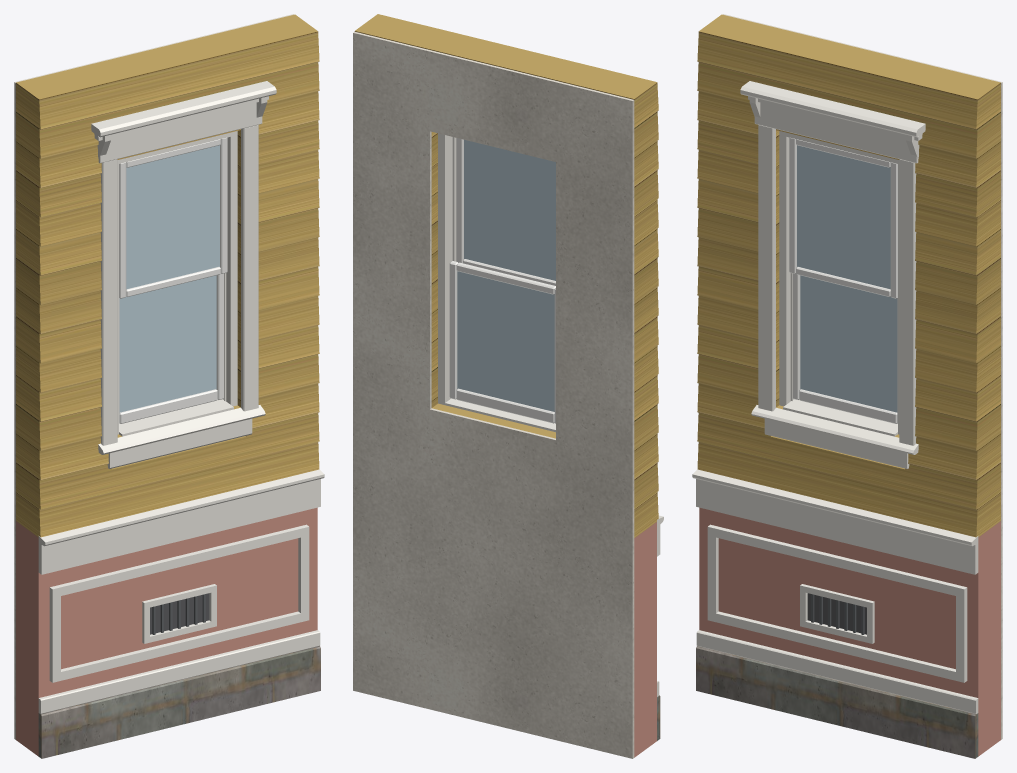
File: b_g_win_a.glb
The picture shows the model from 3 angles, left to right: view 1: azimuth 30°, elevation 25°; view 2: azimuth 150°, elevation 25°; view 3: azimuth 330°, elevation 25°; orthographic projection.
Visible parts, largest first — view 1: b_g_win_a_siding_a, b_g_win_a_trim, b_g_win_a_acc_a, b_g_win_a_glass, b_g_win_a_plinth, b_g_win_a_sash, b_g_win_a_frame, b_g_win_a_plaster, b_g_win_a_dark, b_g_win_a_iron; view 2: b_g_win_a_plaster, b_g_win_a_glass, b_g_win_a_siding_a, b_g_win_a_sash, b_g_win_a_acc_a, b_g_win_a_frame, b_g_win_a_trim; view 3: b_g_win_a_siding_a, b_g_win_a_trim, b_g_win_a_acc_a, b_g_win_a_glass, b_g_win_a_plinth, b_g_win_a_sash, b_g_win_a_frame, b_g_win_a_plaster, b_g_win_a_dark, b_g_win_a_iron.
Boxes of the visible parts, left/top/right/bottom form: b_g_win_a_siding_a: left=16, top=14, right=319, bottom=537; b_g_win_a_trim: left=38, top=81, right=324, bottom=713; b_g_win_a_acc_a: left=16, top=507, right=317, bottom=756; b_g_win_a_glass: left=119, top=145, right=219, bottom=412; b_g_win_a_plinth: left=38, top=646, right=320, bottom=758; b_g_win_a_sash: left=119, top=137, right=227, bottom=423; b_g_win_a_frame: left=117, top=131, right=237, bottom=434; b_g_win_a_plaster: left=14, top=14, right=293, bottom=739; b_g_win_a_dark: left=150, top=593, right=209, bottom=634; b_g_win_a_iron: left=152, top=594, right=205, bottom=634; b_g_win_a_plaster: left=353, top=31, right=634, bottom=758; b_g_win_a_glass: left=457, top=139, right=555, bottom=411; b_g_win_a_siding_a: left=354, top=14, right=658, bottom=537; b_g_win_a_sash: left=449, top=138, right=555, bottom=423; b_g_win_a_acc_a: left=634, top=522, right=656, bottom=757; b_g_win_a_frame: left=438, top=133, right=456, bottom=404; b_g_win_a_trim: left=445, top=398, right=663, bottom=696; b_g_win_a_siding_a: left=697, top=14, right=1000, bottom=537; b_g_win_a_trim: left=692, top=81, right=978, bottom=713; b_g_win_a_acc_a: left=699, top=507, right=1000, bottom=756; b_g_win_a_glass: left=797, top=145, right=897, bottom=412; b_g_win_a_plinth: left=696, top=646, right=978, bottom=758; b_g_win_a_sash: left=789, top=137, right=897, bottom=423; b_g_win_a_frame: left=779, top=131, right=899, bottom=434; b_g_win_a_plaster: left=723, top=14, right=1002, bottom=739; b_g_win_a_dark: left=807, top=593, right=866, bottom=634; b_g_win_a_iron: left=811, top=594, right=864, bottom=634.
Bounding box in the file's own units: 2 × 4.5 × 0.43.
Materials: 10 (3 with a texture image).
